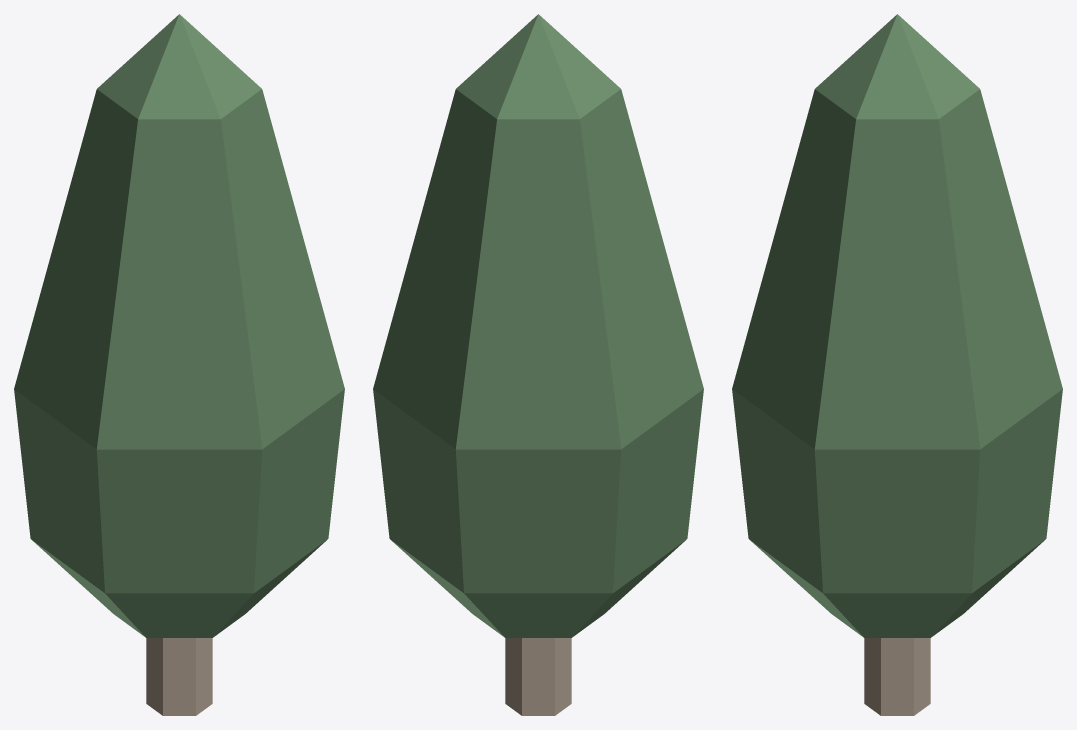
Rendered from Prop_Tree_Cedar_2.gltf.
The picture shows the model from 3 angles, left to right: view 1: azimuth 30°, elevation 25°; view 2: azimuth 150°, elevation 25°; view 3: azimuth 270°, elevation 25°; orthographic projection.
Visible parts, largest first — view 1: object2, object1; view 2: object2, object1; view 3: object2, object1.
Boxes of the visible parts, x1,y1,x2,y2 form: object2: [14, 14, 344, 637]; object1: [146, 638, 212, 715]; object2: [373, 14, 703, 637]; object1: [505, 638, 571, 715]; object2: [732, 14, 1062, 637]; object1: [864, 638, 930, 715].
Size of the model in its own units: 0.866 by 2.3 by 1.
